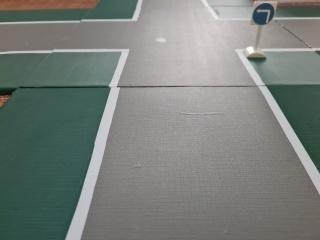left: (250, 0, 276, 28)
